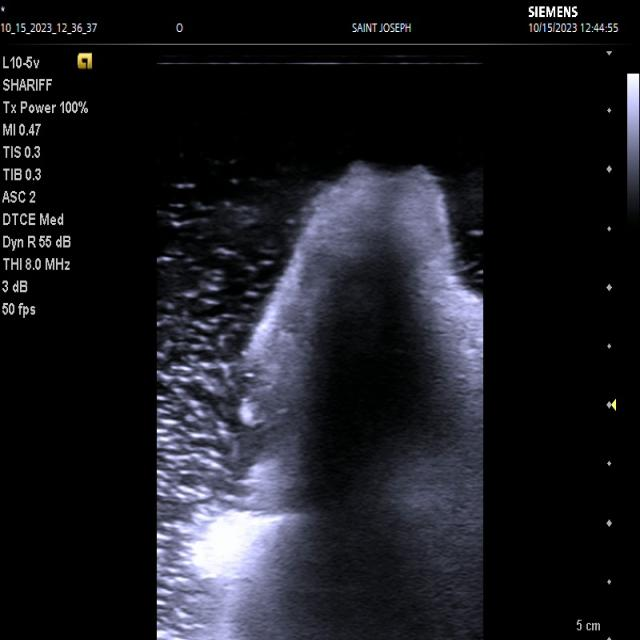tissue: (204, 161, 484, 640)
